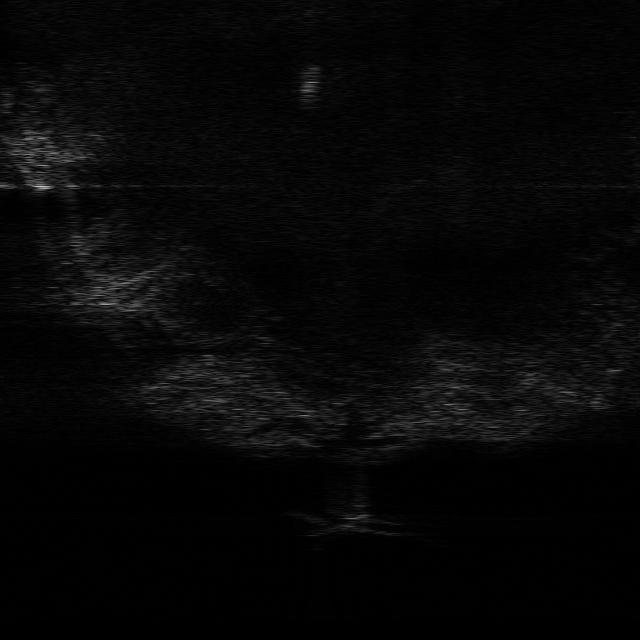plane: (286, 507, 412, 538)
